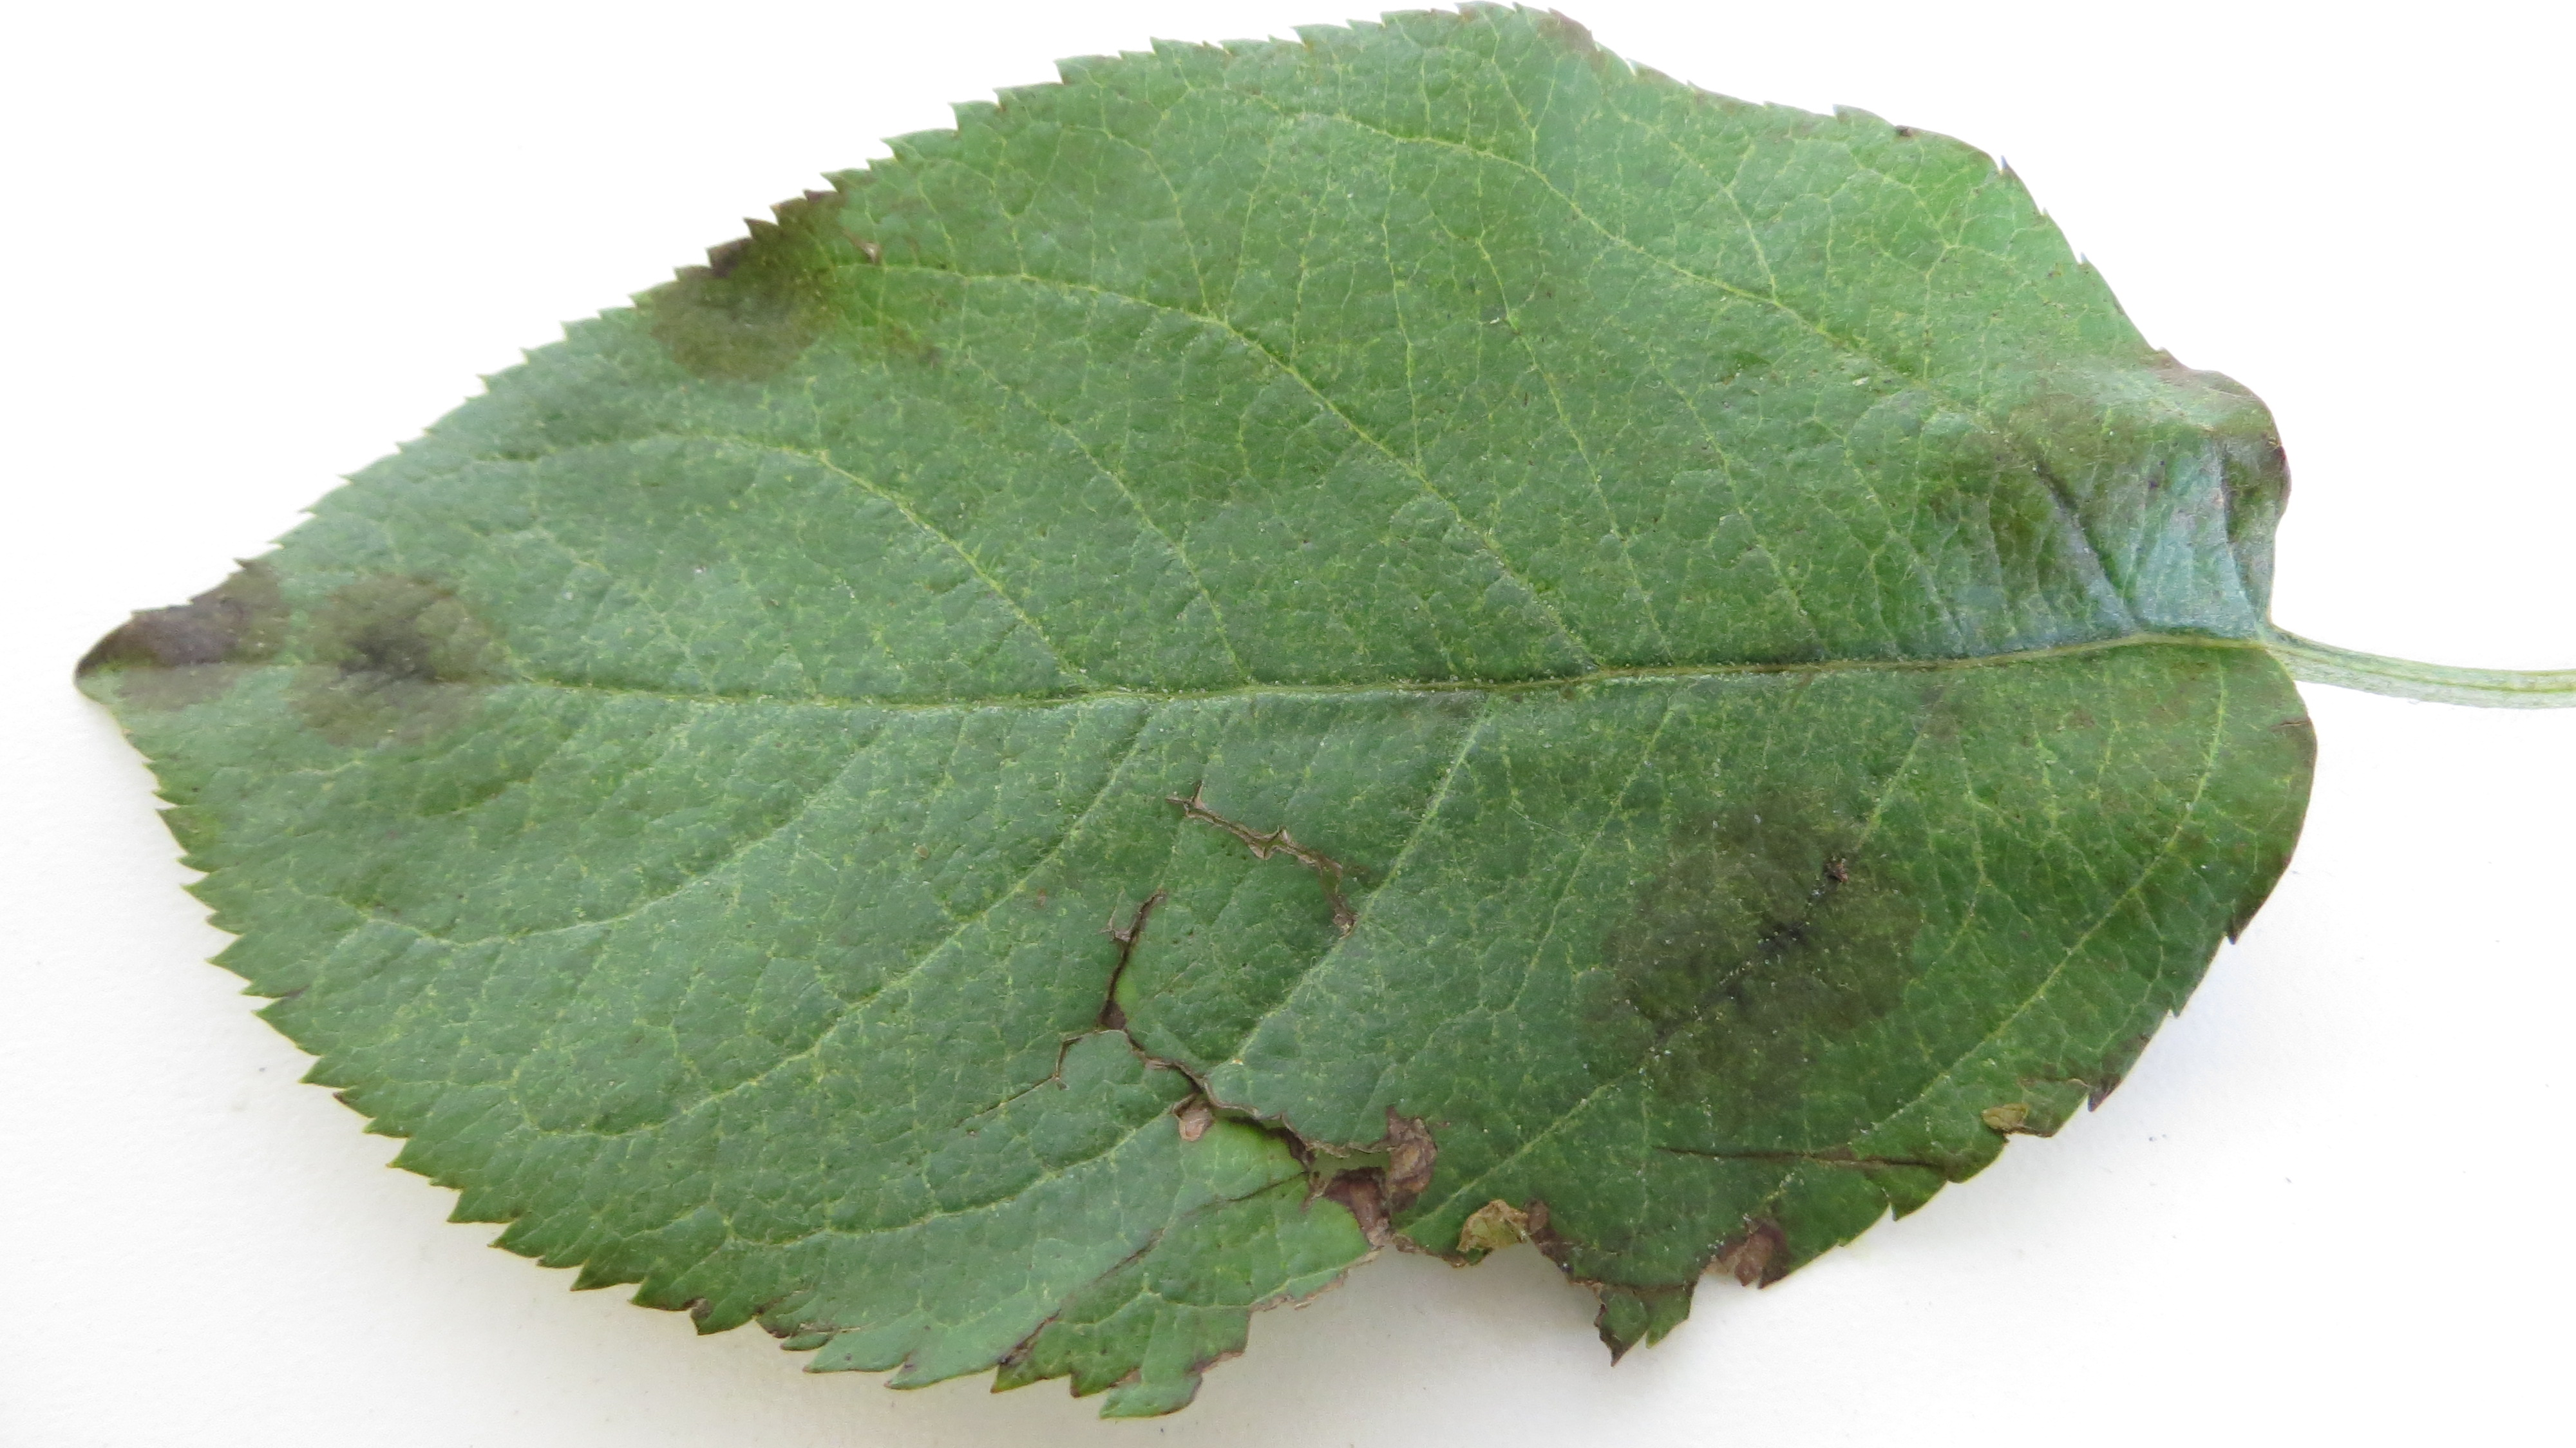sarna: (1575, 781, 1923, 1110), (1921, 372, 2174, 620), (642, 173, 853, 397), (58, 536, 299, 722), (294, 558, 518, 740), (2189, 366, 2314, 533)
